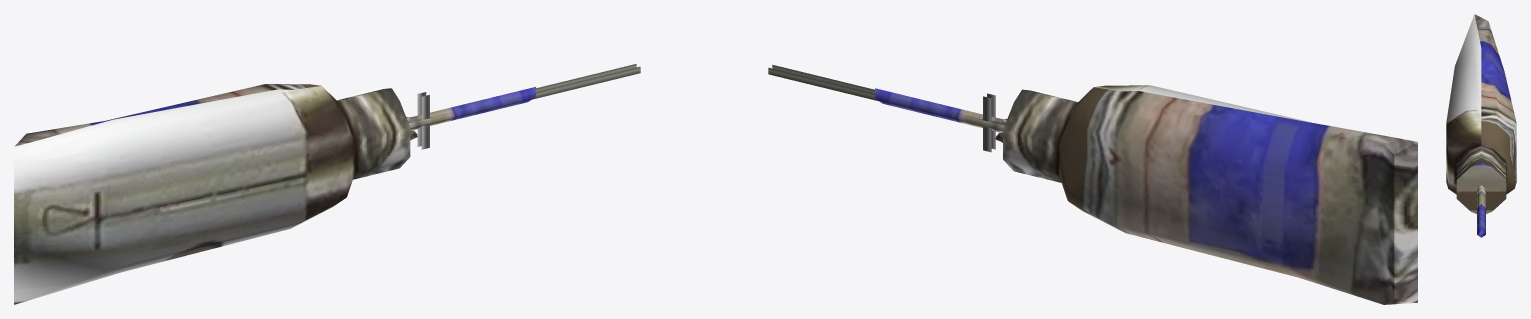
The model's file is viewmodel_usa_morphine.glb.
3 renders of one model, left to right at view 1: azimuth 30°, elevation 25°; view 2: azimuth 150°, elevation 25°; view 3: azimuth 270°, elevation 25°, orthographic. The views are drawn at different scales.
Visible parts, largest first — view 1: viewmodel_usa_morphine; view 2: viewmodel_usa_morphine; view 3: viewmodel_usa_morphine.
Part boxes in pixels (x1,y1,x2,y2): viewmodel_usa_morphine: (14, 64, 640, 304); viewmodel_usa_morphine: (768, 64, 1417, 304); viewmodel_usa_morphine: (1446, 14, 1516, 237).
Size of the model in its own units: 0.0988 by 0.0226 by 0.0139.
3 materials, 3 textured.
